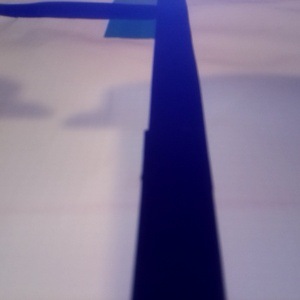bottom_left: (104, 5, 187, 38)
